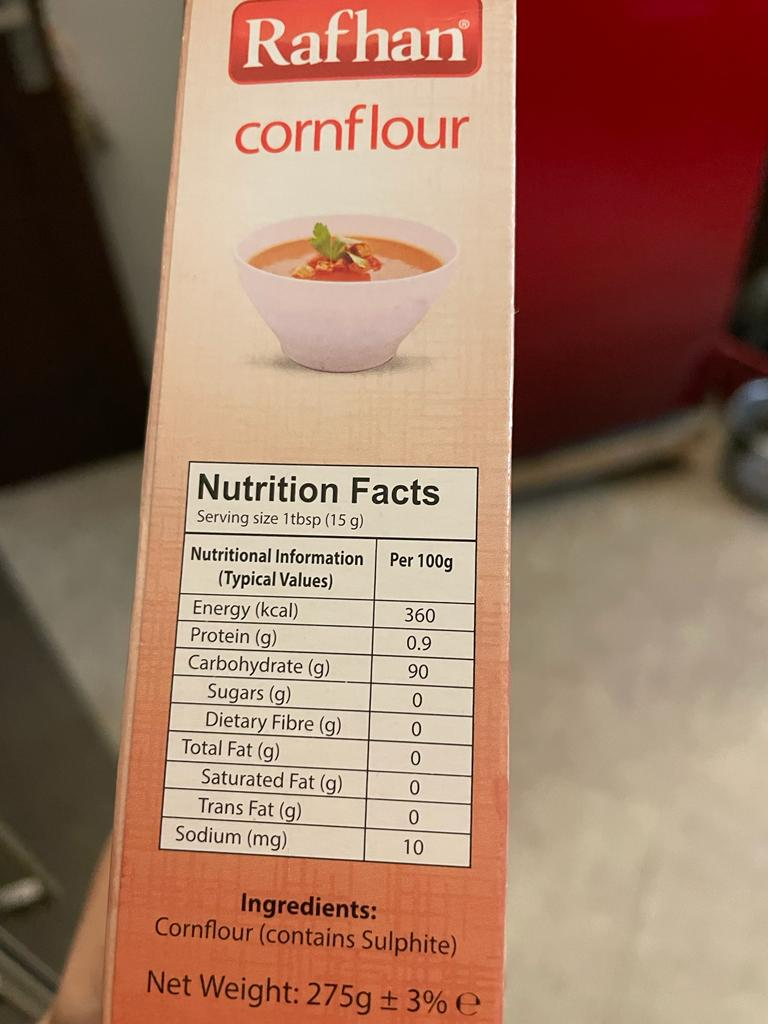table: (153, 455, 479, 880)
